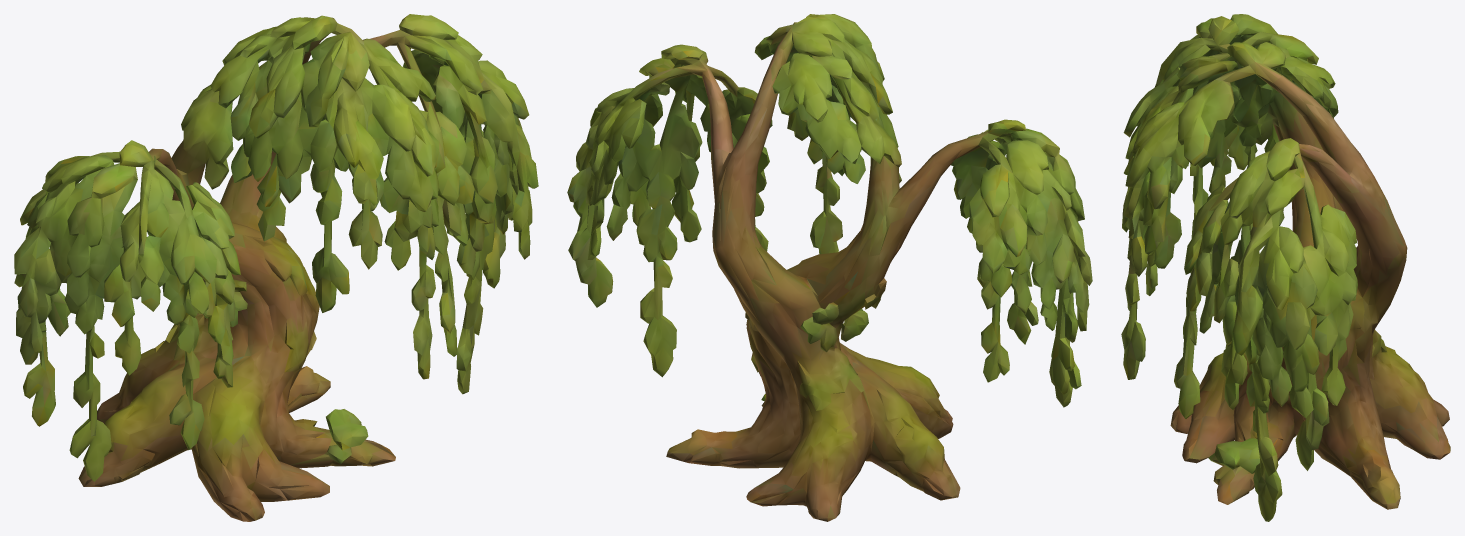
File: sauce.glb
3 views of the same model, side by side, from view 1: azimuth 30°, elevation 25°; view 2: azimuth 150°, elevation 25°; view 3: azimuth 270°, elevation 25° (orthographic). The views are drawn at different scales.
Parts seen in each view (by area): view 1: sauce_malla; view 2: sauce_malla; view 3: sauce_malla.
Part boxes in pixels (x1=…): sauce_malla: x1=14, y1=14, x2=538, y2=521; sauce_malla: x1=567, y1=14, x2=1092, y2=521; sauce_malla: x1=1121, y1=14, x2=1450, y2=521.
Size of the model in its own units: 0.3586 by 0.2887 by 0.1996.
1 material, 1 textured.
